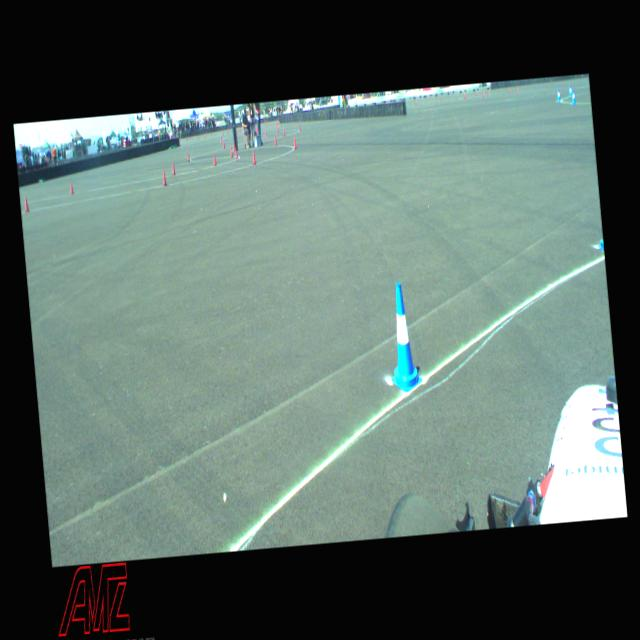blue_cone: (382, 281, 423, 394), (570, 89, 576, 104), (556, 88, 560, 101), (568, 85, 572, 96)
unknown_cone: (24, 196, 30, 212), (251, 148, 256, 164), (69, 180, 74, 193), (162, 169, 166, 185), (212, 152, 216, 166), (171, 161, 175, 174), (293, 136, 297, 148), (234, 146, 238, 158), (187, 150, 190, 162), (282, 127, 286, 136), (274, 134, 277, 145), (222, 140, 225, 148), (232, 142, 235, 150), (230, 146, 232, 157), (264, 129, 267, 136), (220, 134, 222, 142), (298, 122, 300, 130)
